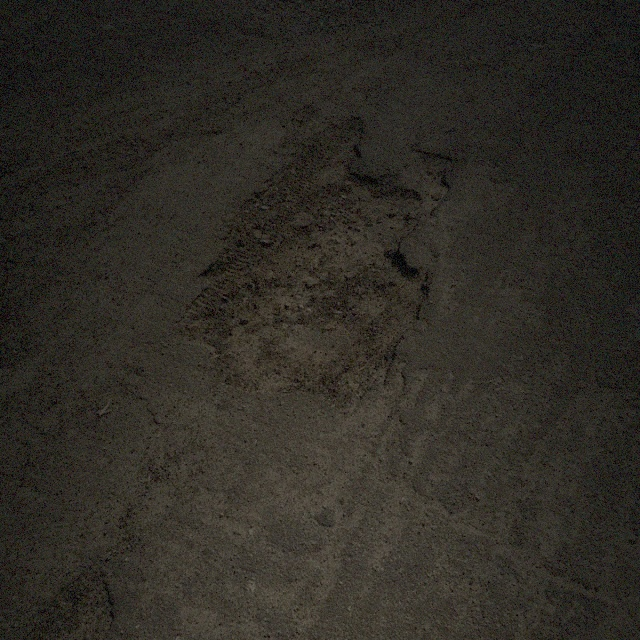pothole: (172, 109, 460, 404), (19, 562, 126, 639)
